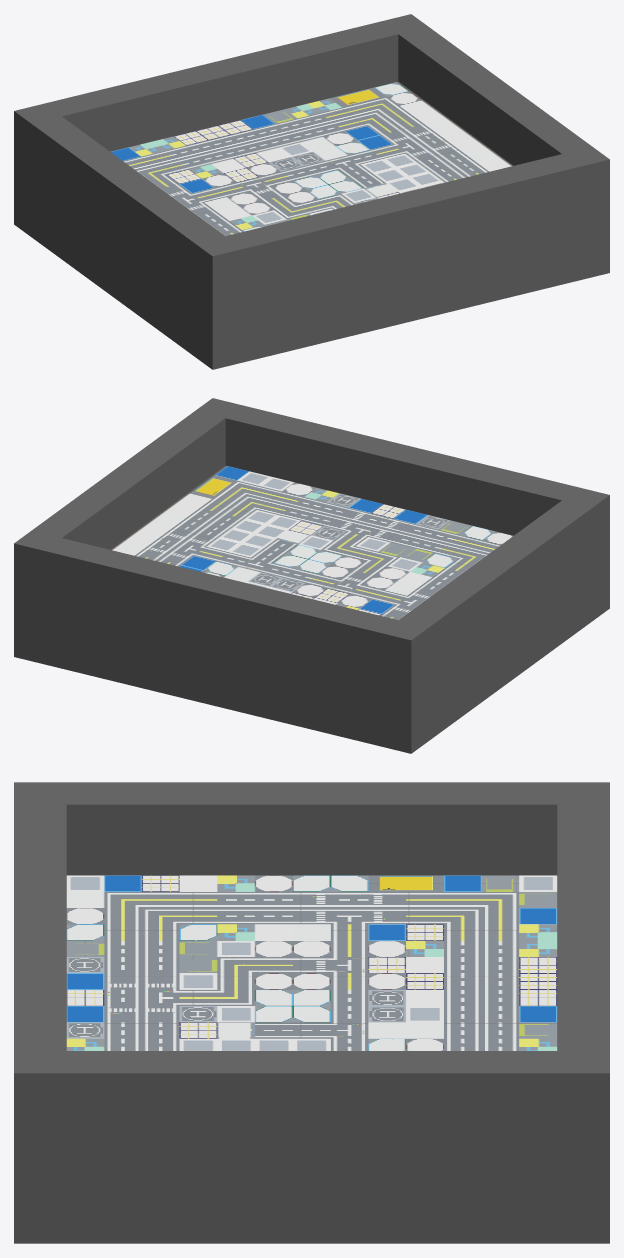
The model's file is Map.FBX.
3 views of the same model, one above another, from view 1: azimuth 30°, elevation 25°; view 2: azimuth 150°, elevation 25°; view 3: azimuth 270°, elevation 25° (orthographic). The views are drawn at different scales.
Visible parts, largest first — view 1: Box001; view 2: Box001; view 3: Box001.
Boxes of the visible parts, left/top/right/bottom form: Box001: left=14, top=14, right=609, bottom=369; Box001: left=14, top=398, right=609, bottom=753; Box001: left=14, top=782, right=609, bottom=1243.
Bounding box in the file's own units: 6.35 × 1.73 × 5.5.
Materials: 1 (1 with a texture image).
